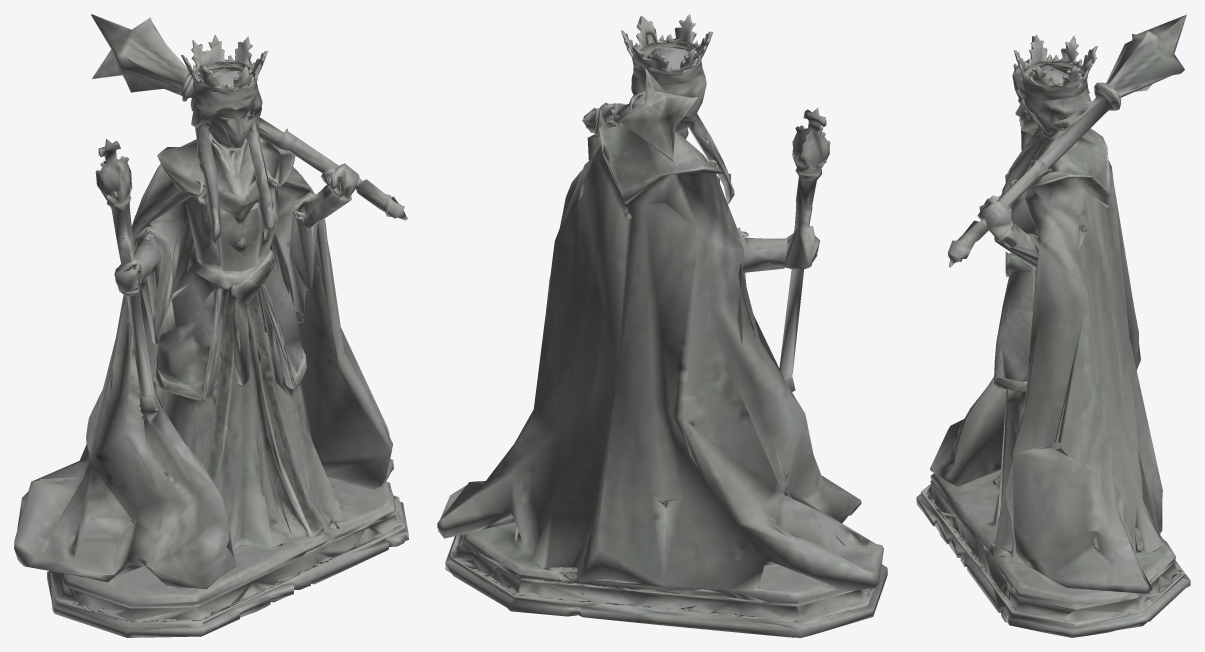
File: queen_med.glb
3 renders of one model, left to right at view 1: azimuth 30°, elevation 25°; view 2: azimuth 150°, elevation 25°; view 3: azimuth 270°, elevation 25°, orthographic. The views are drawn at different scales.
Parts seen in each view (by area): view 1: geometry_0; view 2: geometry_0; view 3: geometry_0.
Boxes of the visible parts, x1,y1,x2,y2 form: geometry_0: (14,14,408,637); geometry_0: (437,14,887,637); geometry_0: (916,14,1190,637).
Bounding box in the file's own units: 0.7845 × 0.9953 × 0.4892.
Materials: 1 (1 with a texture image).
